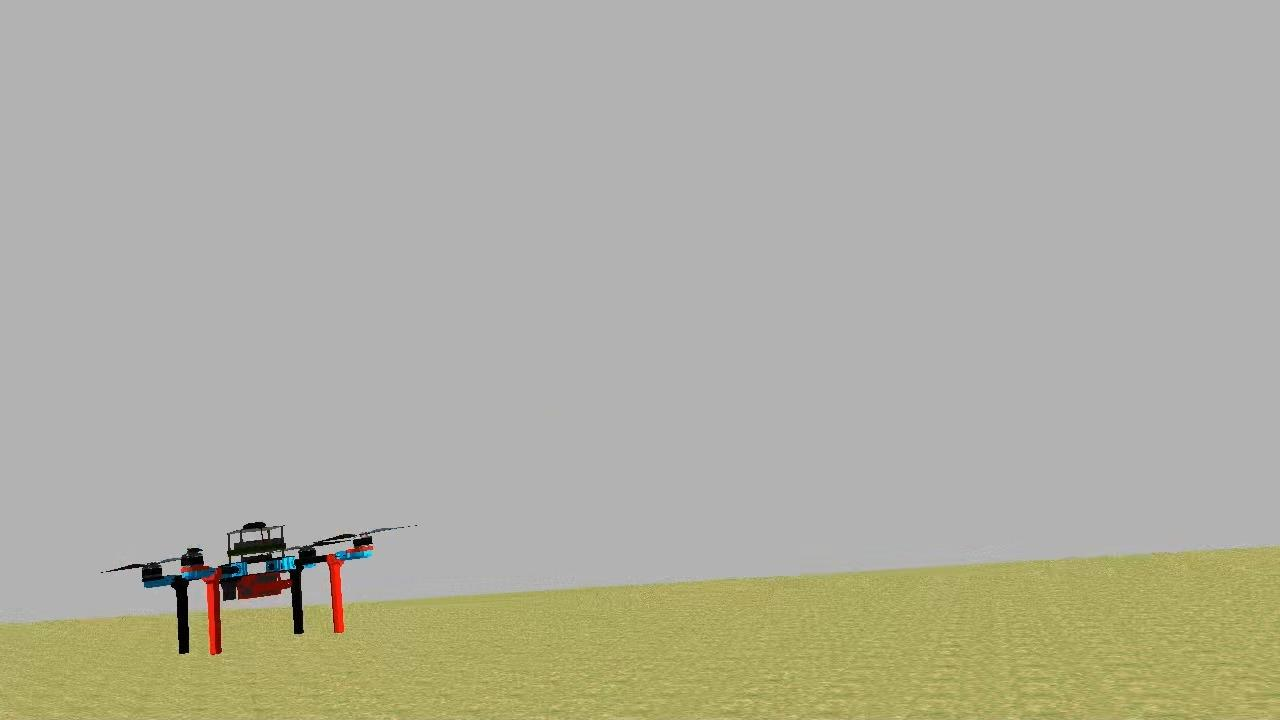UAV: (133, 514, 383, 667)
